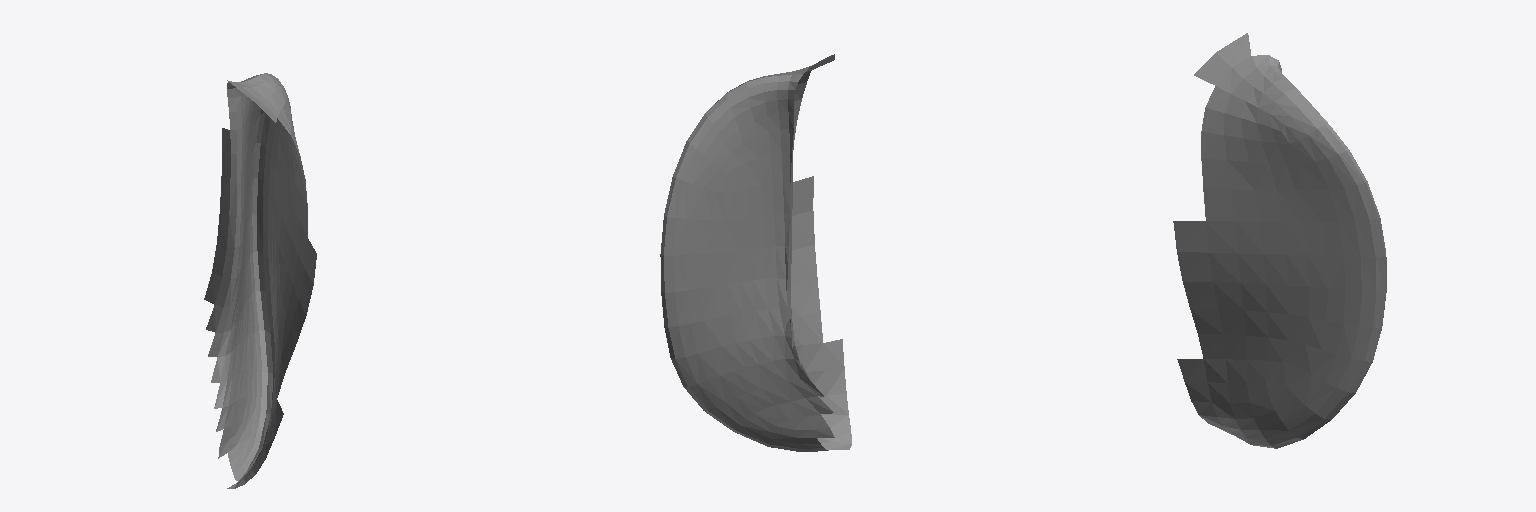
File: pesAletaIzq.obj
3 views of the same model, side by side, from view 1: azimuth 30°, elevation 25°; view 2: azimuth 150°, elevation 25°; view 3: azimuth 270°, elevation 25° (orthographic).
Visible parts, largest first — view 1: aletaDer; view 2: aletaDer; view 3: aletaDer.
Part boxes in pixels (x1,y1,x2,y2): aletaDer: (204,73,316,488); aletaDer: (660,54,851,451); aletaDer: (1173,33,1386,448).
Bounding box in the file's own units: 1.65 × 5.73 × 2.76.